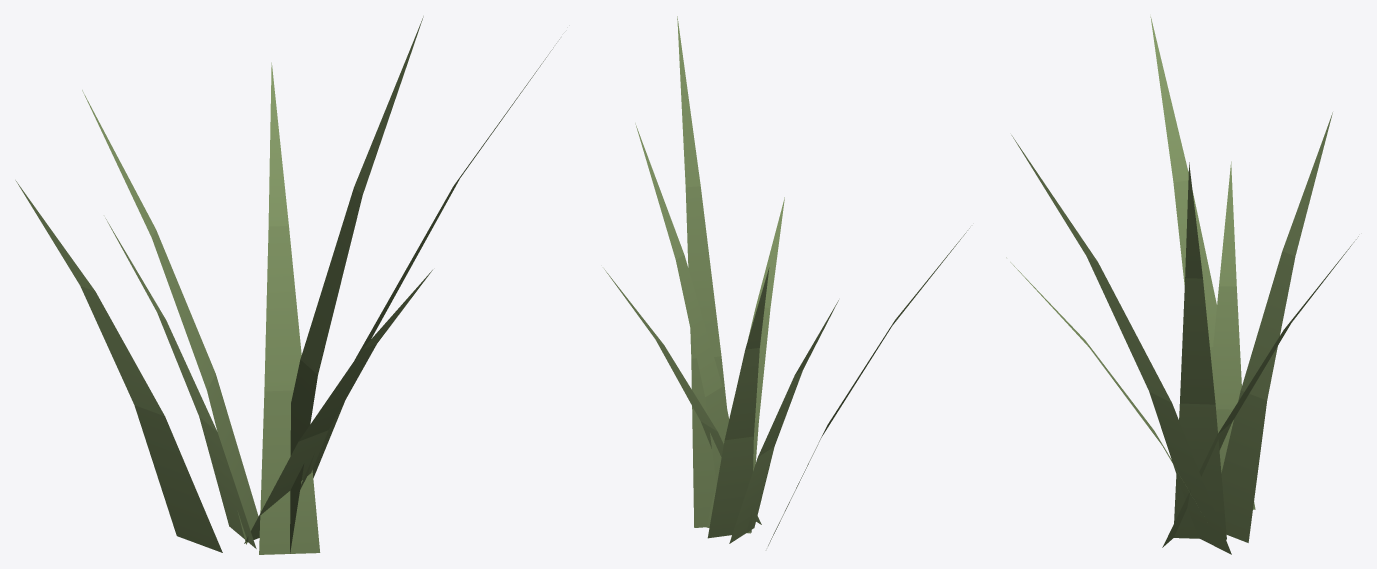
Rendered from grass_1.glb.
3 views of the same model, side by side, from view 1: azimuth 30°, elevation 25°; view 2: azimuth 150°, elevation 25°; view 3: azimuth 270°, elevation 25° (orthographic). The views are drawn at different scales.
Visible parts, largest first — view 1: grass_1.001; view 2: grass_1.001; view 3: grass_1.001.
Boxes of the visible parts, box(x1,y1,x2,y2) form: grass_1.001: box(15, 16, 559, 554); grass_1.001: box(604, 16, 969, 545); grass_1.001: box(1006, 16, 1358, 554).
Size of the model in its own units: 0.4498 by 0.4992 by 0.3327.
